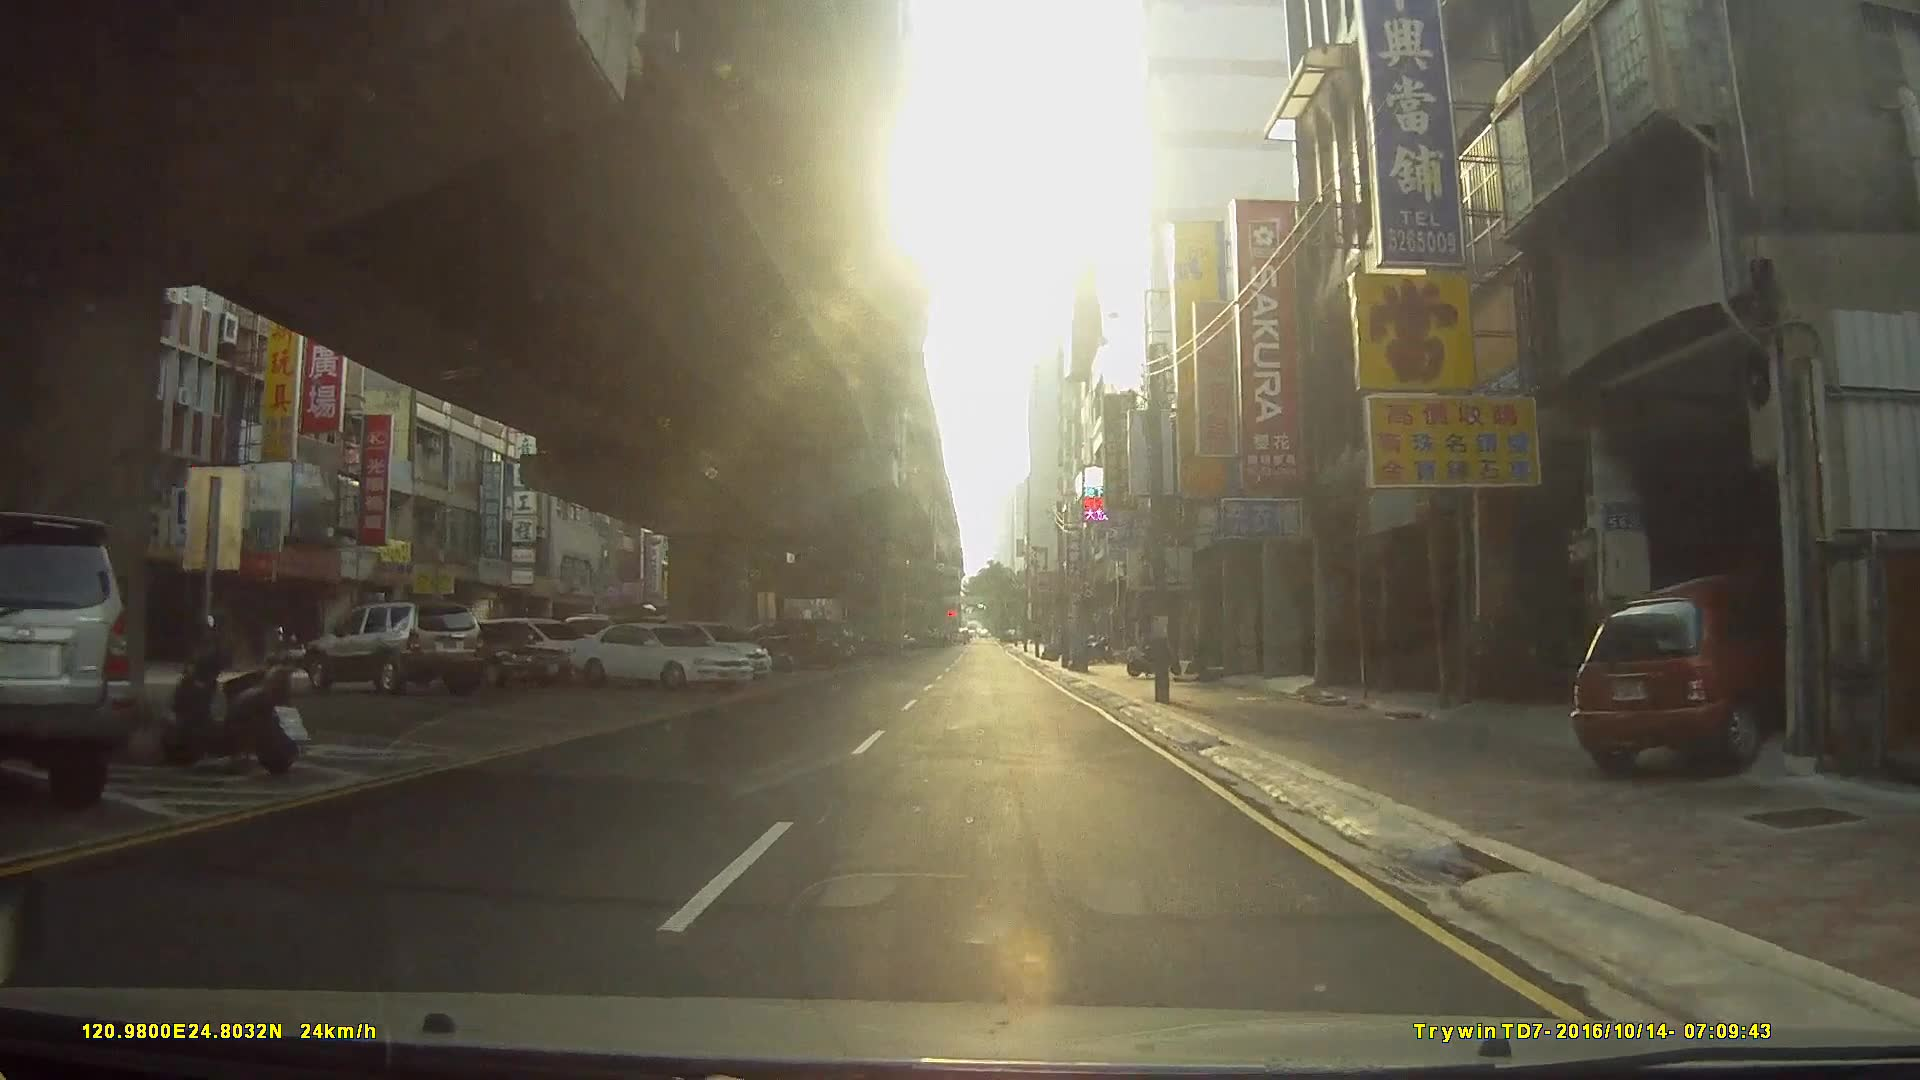vehicle: (1571, 564, 1807, 775), (0, 512, 131, 815), (305, 601, 485, 696), (386, 618, 572, 690), (566, 622, 757, 688)
